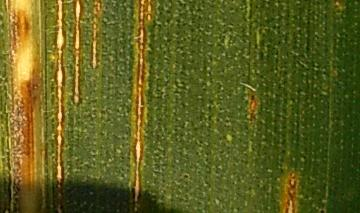tarspot: (178, 172, 192, 180)
